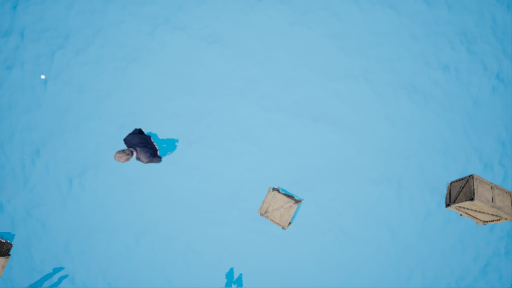person: (111, 128, 174, 175)
